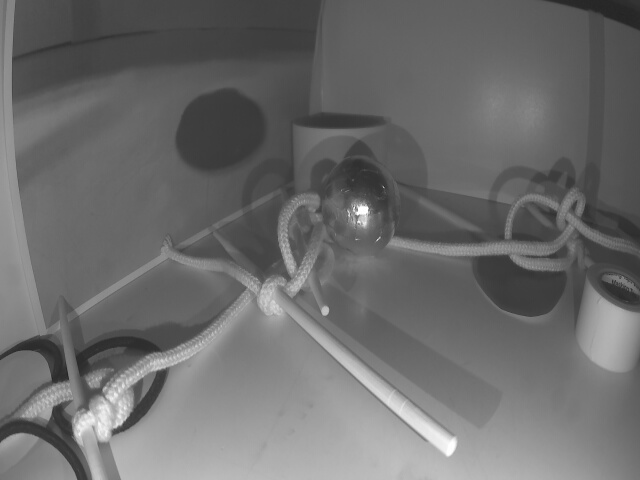Live: (318, 153, 399, 254)
